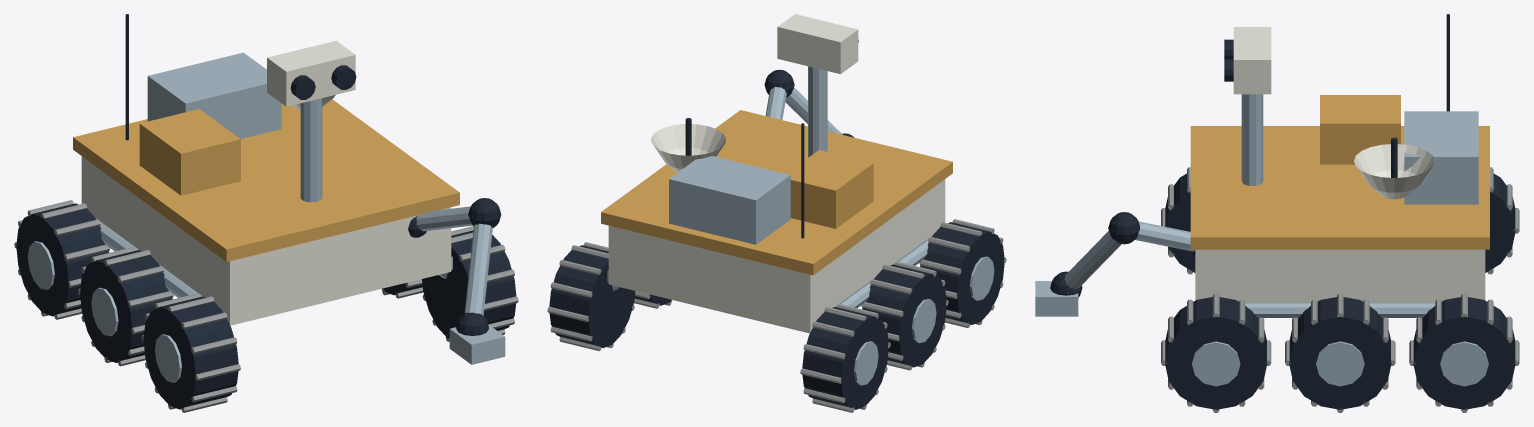
Rendered from 03_LunarRover.obj.
3 renders of one model, left to right at view 1: azimuth 30°, elevation 25°; view 2: azimuth 150°, elevation 25°; view 3: azimuth 270°, elevation 25°, orthographic. The views are drawn at different scales.
Parts seen in each view (by area): view 1: Thermal_deck, Chassis, Power_module, Instrument_box, Left_Wheel_2, Left_Wheel_0, Left_Wheel_1, Right_Wheel_2, Camera_head, Camera_mast, Sample_arm_1, Sample_scoop (+10 smaller); view 2: Chassis, Thermal_deck, Power_module, Left_Wheel_0, Right_Wheel_0, Instrument_box, Left_Wheel_1, Left_Wheel_2, Camera_head, Comms, Camera_mast, Left_Wheel_2_hub (+7 smaller); view 3: Thermal_deck, Chassis, Right_Wheel_0, Right_Wheel_2, Right_Wheel_1, Power_module, Instrument_box, Comms, Camera_head, Camera_mast, Left_Wheel_0, Right_Wheel_0_hub (+8 smaller).
Part boxes in pixels (x1,y1,x2,y2): Thermal_deck: (73,99,459,261); Chassis: (81,156,451,325); Power_module: (147,52,281,138); Instrument_box: (139,109,240,195); Left_Wheel_2: (143,296,238,409); Left_Wheel_0: (16,203,109,316); Left_Wheel_1: (80,250,172,362); Right_Wheel_2: (422,230,516,338); Camera_head: (267,40,355,106); Camera_mast: (300,98,322,202); Sample_arm_1: (464,223,492,315); Sample_scoop: (449,324,505,364); Chassis: (608,179,945,333); Thermal_deck: (601,110,952,275); Power_module: (669,154,790,244); Left_Wheel_0: (802,307,888,409); Right_Wheel_0: (549,245,635,347); Instrument_box: (786,150,873,228); Left_Wheel_1: (862,264,946,367); Left_Wheel_2: (920,222,1004,324); Camera_head: (777,14,858,74); Comms: (651,124,725,172); Camera_mast: (808,66,827,157); Left_Wheel_2_hub: (969,256,994,300); Thermal_deck: (1190,126,1489,249); Chassis: (1195,249,1485,302); Right_Wheel_0: (1413,297,1515,409); Right_Wheel_2: (1165,297,1267,409); Right_Wheel_1: (1289,297,1391,409); Power_module: (1404,111,1478,204); Instrument_box: (1320,95,1400,164); Comms: (1354,144,1434,199); Camera_head: (1233,27,1271,94); Camera_mast: (1241,94,1263,185); Left_Wheel_0: (1485,173,1515,272); Right_Wheel_0_hub: (1440,341,1488,386).
Size of the model in its own units: 2.72 by 2.4 by 3.59.
